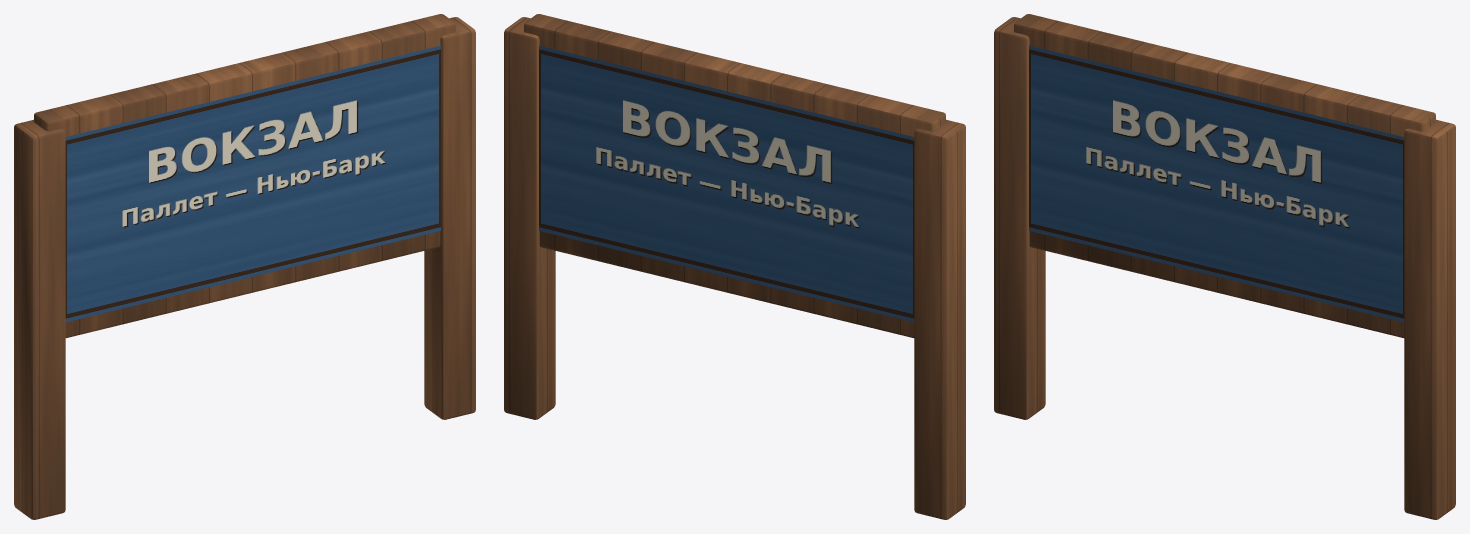
The model's file is sign_station.glb.
3 views of the same model, side by side, from view 1: azimuth 30°, elevation 25°; view 2: azimuth 150°, elevation 25°; view 3: azimuth 330°, elevation 25° (orthographic).
Parts seen in each view (by area): view 1: sign_station; view 2: sign_station; view 3: sign_station.
Part boxes in pixels (box(x1,y1,x2,y2)): sign_station: box(14, 14, 475, 519); sign_station: box(504, 14, 965, 519); sign_station: box(994, 14, 1455, 519).
Size of the model in its own units: 2.06 by 1.74 by 0.16.
Materials: 2 (2 with a texture image).
